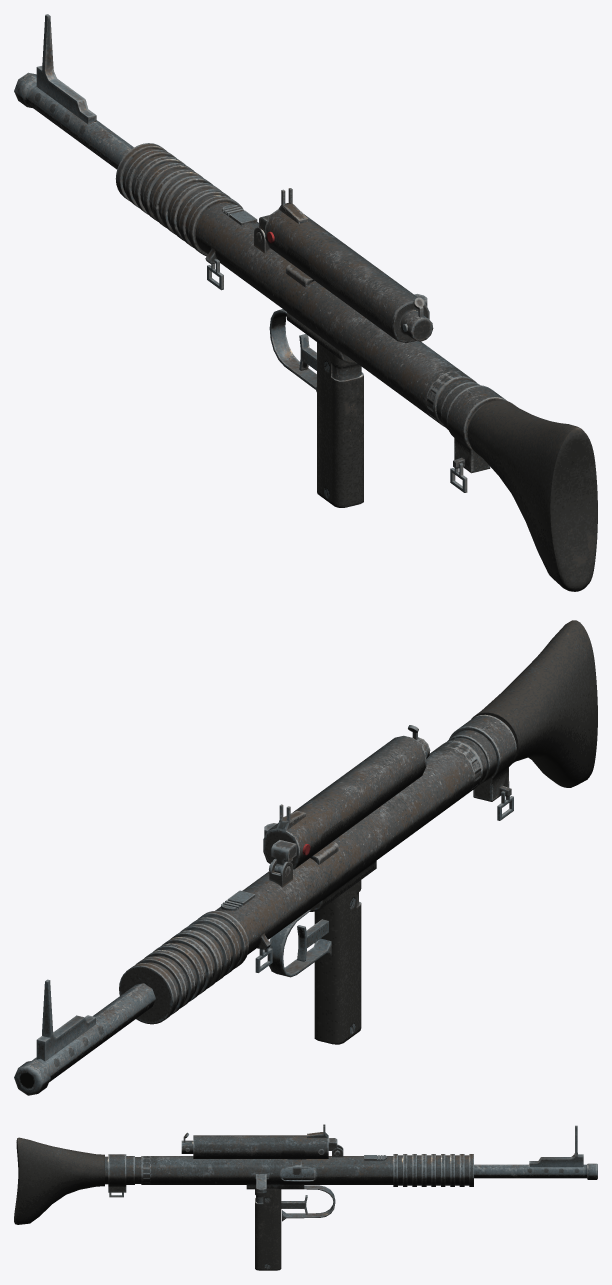
Rendered from Gun_unity.fbx.
3 views of the same model, one above another, from view 1: azimuth 30°, elevation 25°; view 2: azimuth 150°, elevation 25°; view 3: azimuth 270°, elevation 25° (orthographic). The views are drawn at different scales.
Visible parts, largest first — view 1: Body_low, Feeder_low, Grip_low, Barrel_low, Trigger guard_low; view 2: Body_low, Feeder_low, Grip_low, Barrel_low, Trigger guard_low, Trigger_low, Fedder catch_low; view 3: Body_low, Feeder_low, Barrel_low, Grip_low, Bolt_low, Trigger guard_low, Trigger_low.
Boxes of the visible parts, x1,y1,x2,y2 form: Body_low: [115, 143, 597, 591]; Feeder_low: [265, 188, 433, 343]; Grip_low: [317, 342, 363, 507]; Barrel_low: [14, 14, 133, 169]; Trigger guard_low: [269, 309, 316, 391]; Body_low: [119, 620, 597, 1024]; Feeder_low: [263, 735, 430, 869]; Grip_low: [314, 880, 361, 1044]; Barrel_low: [14, 979, 155, 1095]; Trigger guard_low: [268, 910, 331, 977]; Trigger_low: [297, 919, 328, 961]; Fedder catch_low: [269, 840, 296, 876]; Body_low: [14, 1137, 473, 1224]; Feeder_low: [181, 1124, 328, 1174]; Barrel_low: [474, 1125, 597, 1179]; Grip_low: [255, 1188, 281, 1270]; Bolt_low: [256, 1168, 315, 1193]; Trigger guard_low: [282, 1185, 335, 1221]; Trigger_low: [281, 1195, 307, 1214].
Size of the model in its own units: 11.66 by 26.96 by 101.
